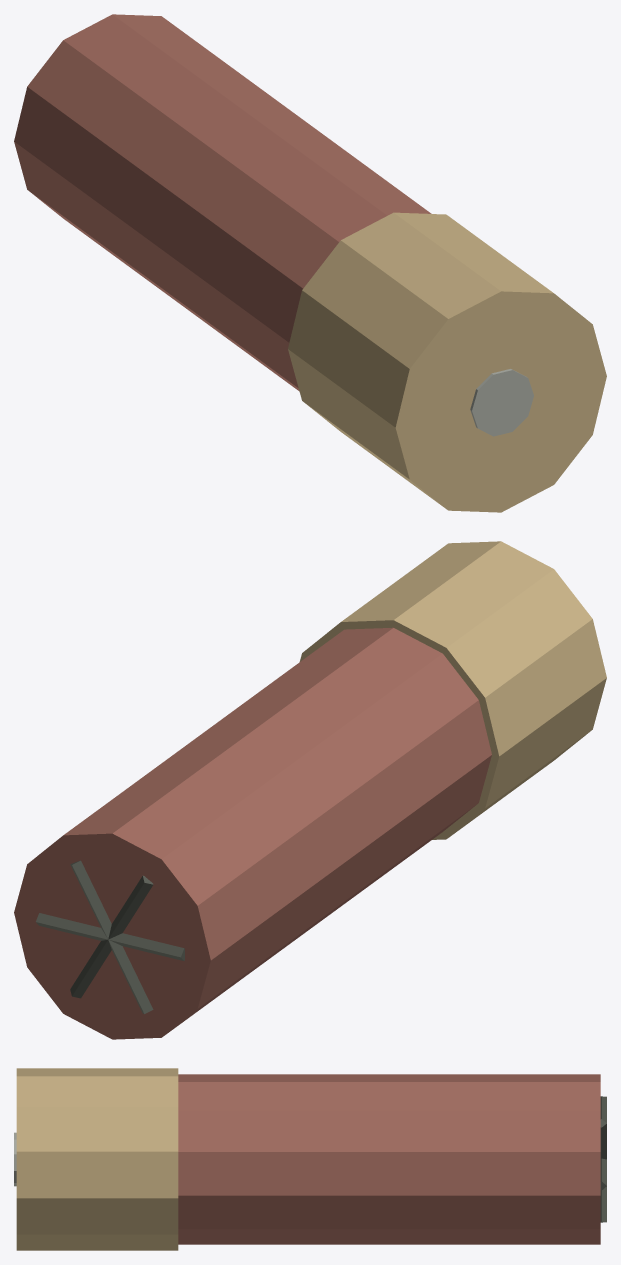
The model's file is Shell.fbx.
3 renders of one model, top to bottom at view 1: azimuth 30°, elevation 25°; view 2: azimuth 150°, elevation 25°; view 3: azimuth 270°, elevation 25°, orthographic. The views are drawn at different scales.
Parts seen in each view (by area): view 1: Body__Shell, Body__Brass, Body__WornSteel.001; view 2: Body__Shell, Body__Brass, Body__Rubber.001; view 3: Body__Shell, Body__Brass, Body__Rubber.001.
Part boxes in pixels (x1,y1,x2,y2): Body__Shell: (14, 14, 431, 391); Body__Brass: (288, 212, 606, 512); Body__WornSteel.001: (470, 369, 533, 436); Body__Shell: (14, 627, 491, 1039); Body__Brass: (299, 541, 606, 839); Body__Rubber.001: (36, 860, 184, 1013); Body__Shell: (178, 1074, 600, 1244); Body__Brass: (16, 1068, 178, 1250); Body__Rubber.001: (600, 1096, 606, 1222).
Size of the model in its own units: 0.0204 by 0.0204 by 0.066.
